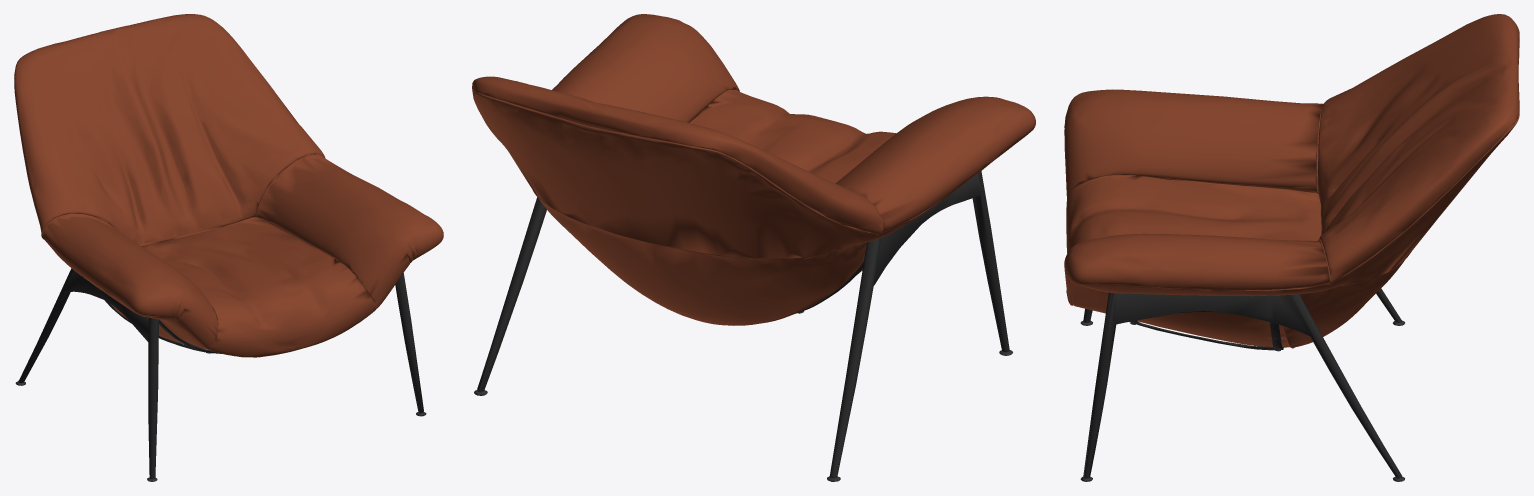
File: bella-3d-velvet-lounge-chair.glb
3 views of the same model, side by side, from view 1: azimuth 30°, elevation 25°; view 2: azimuth 150°, elevation 25°; view 3: azimuth 270°, elevation 25° (orthographic). The views are drawn at different scales.
Parts seen in each view (by area): view 1: velvet-lounge-chair-3, velvet-lounge-chair-7; view 2: velvet-lounge-chair-3, velvet-lounge-chair-7; view 3: velvet-lounge-chair-3, velvet-lounge-chair-7.
Boxes of the visible parts, x1,y1,x2,y2 form: velvet-lounge-chair-3: (14,14,443,357); velvet-lounge-chair-7: (18,268,423,478); velvet-lounge-chair-3: (472,14,1035,325); velvet-lounge-chair-7: (477,171,1009,478); velvet-lounge-chair-3: (1064,14,1519,348); velvet-lounge-chair-7: (1083,288,1402,477).
Bounding box in the file's own units: 0.9411 × 0.8311 × 1.01.
